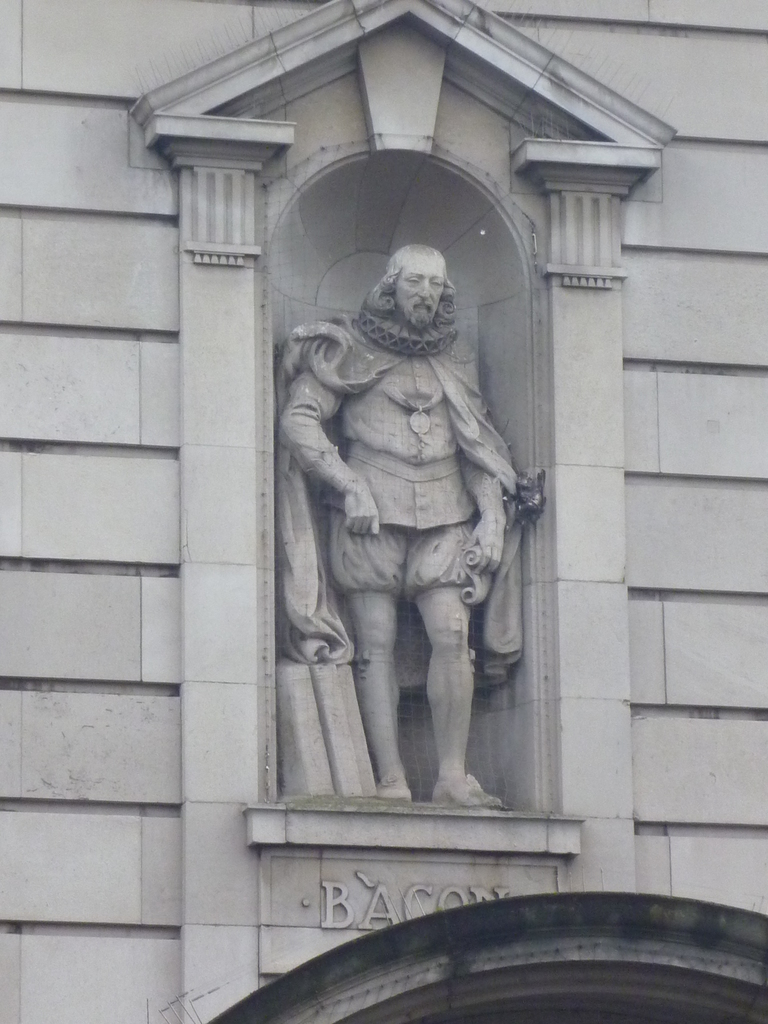Human_hand: (461, 520, 508, 576), (342, 482, 380, 536)
